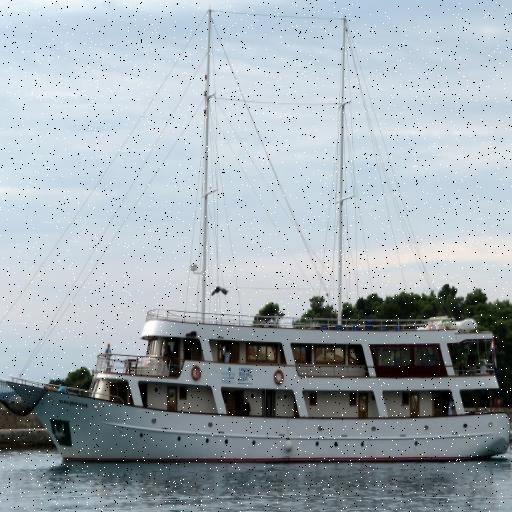cruises: (7, 293, 512, 471)
